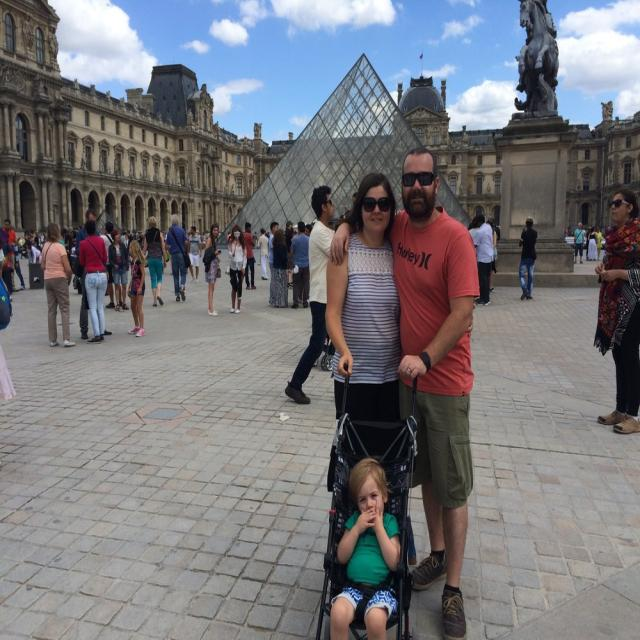body: (328, 140, 480, 639), (323, 171, 478, 426), (328, 457, 402, 640), (284, 184, 338, 407), (594, 184, 639, 436), (74, 208, 113, 342), (40, 220, 76, 349), (78, 218, 109, 345), (0, 226, 18, 405), (140, 215, 168, 308), (164, 211, 192, 304), (472, 210, 496, 307), (99, 220, 124, 309), (126, 239, 148, 338), (224, 223, 247, 315), (516, 214, 540, 300), (202, 221, 223, 317), (107, 229, 130, 312), (290, 220, 310, 309), (2, 218, 26, 291), (270, 229, 289, 309), (60, 228, 80, 290), (241, 220, 258, 290), (267, 221, 280, 306), (186, 224, 202, 284), (489, 220, 501, 294), (24, 241, 43, 284), (257, 227, 270, 281), (572, 220, 586, 266), (18, 230, 45, 252), (285, 218, 294, 278), (165, 230, 176, 275), (588, 225, 598, 263), (119, 228, 145, 242), (594, 226, 603, 260), (468, 220, 480, 242), (563, 219, 572, 244), (226, 230, 232, 251), (252, 230, 258, 248), (305, 222, 313, 235), (202, 232, 208, 246), (588, 221, 592, 234), (266, 230, 270, 238)
